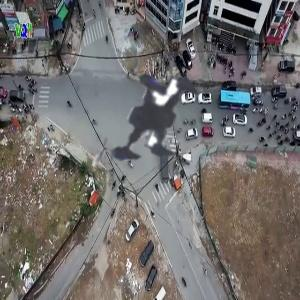drone: (49, 13, 258, 222)
